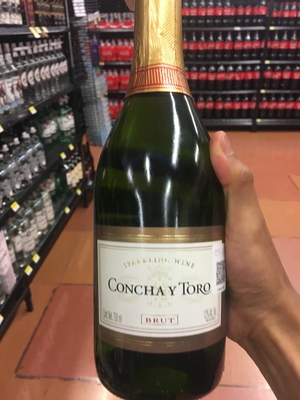brut: (90, 20, 233, 388)
